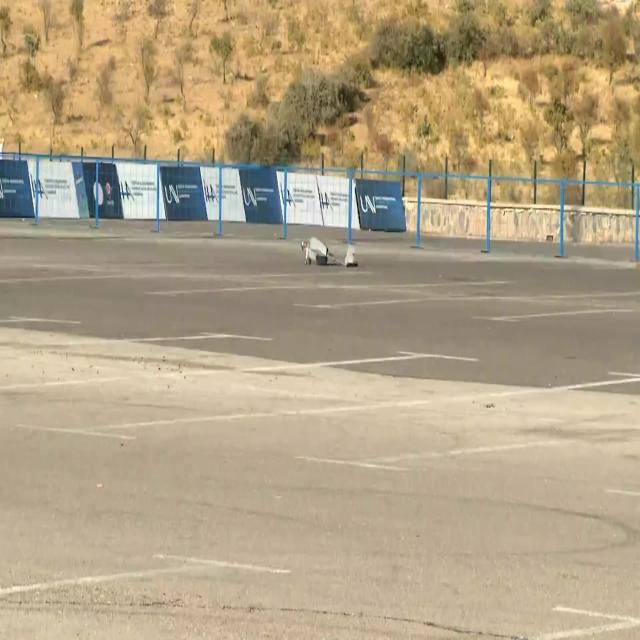iha: (295, 236, 353, 268)
